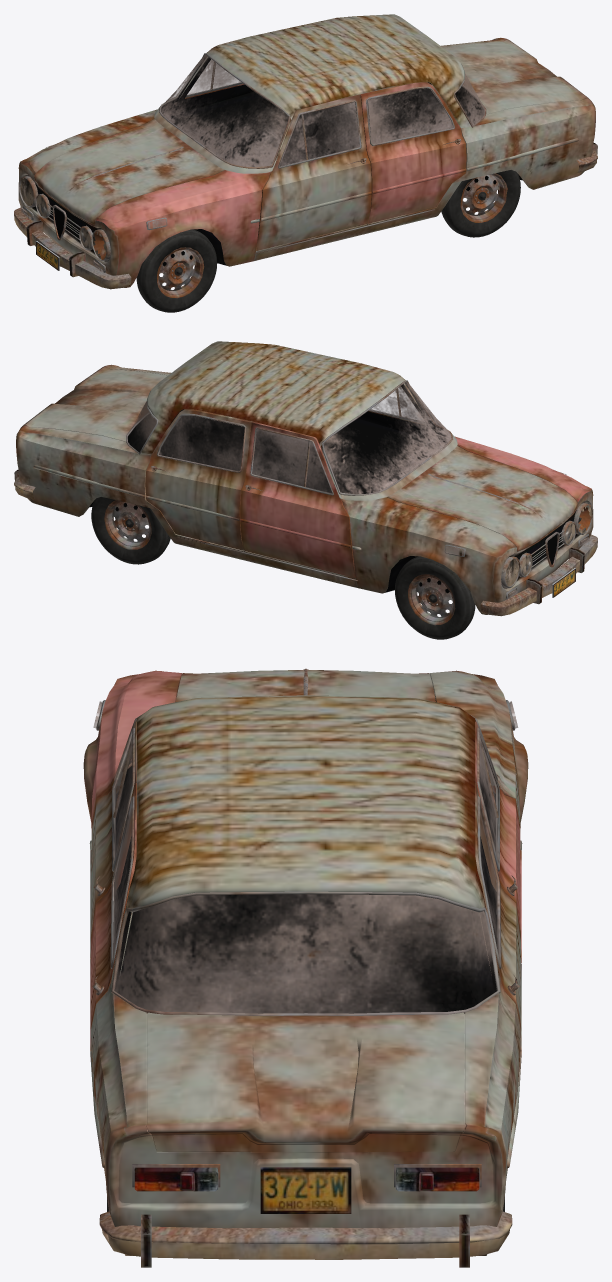
Rendered from car_alfa.glb.
3 renders of one model, top to bottom at view 1: azimuth 30°, elevation 25°; view 2: azimuth 150°, elevation 25°; view 3: azimuth 270°, elevation 25°, orthographic. The views are drawn at different scales.
Visible parts, largest first — view 1: alfabody, wheels; view 2: alfabody, wheels; view 3: alfabody.
Part boxes in pixels (x1,y1,x2,y2): alfabody: (14,14,597,289); wheels: (136,170,520,312); alfabody: (14,341,597,616); wheels: (91,497,475,639); alfabody: (83,668,528,1267).
Bounding box in the file's own units: 4.4 × 1.47 × 1.66.
4 materials, 4 textured.
